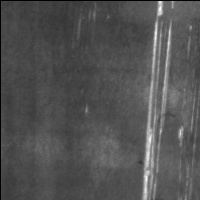scratches: (140, 1, 177, 200)
